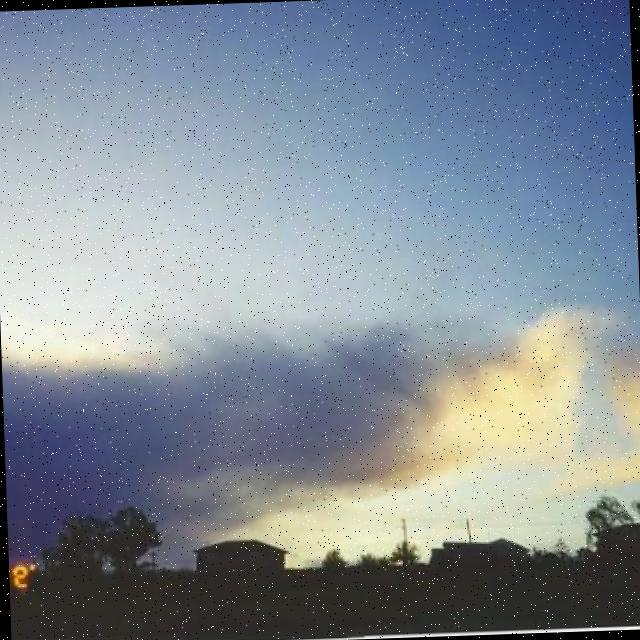Ns: (1, 242, 640, 509)
